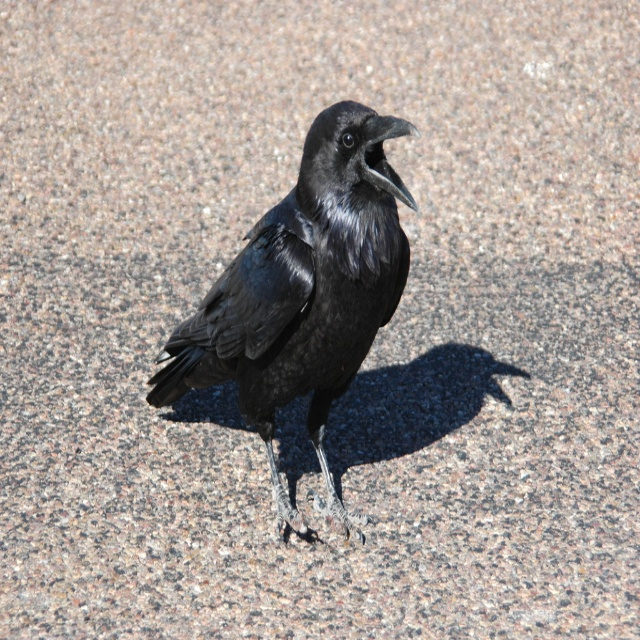Raven: (143, 95, 433, 544)
